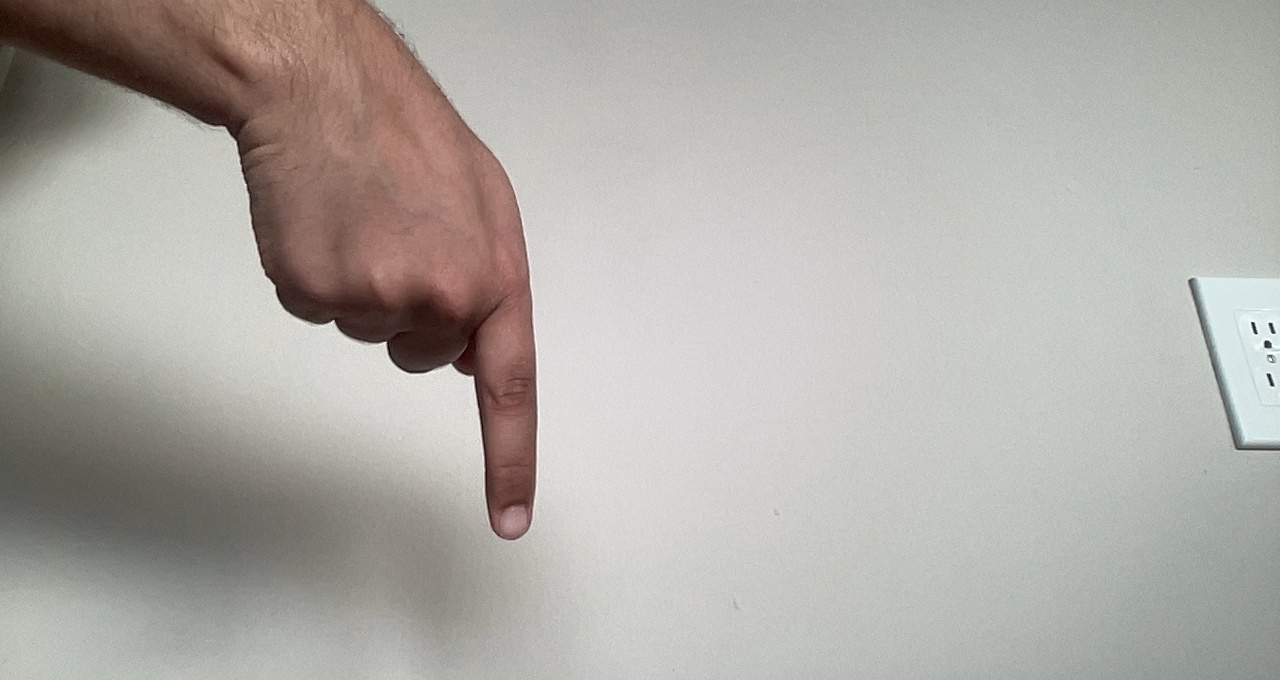fingerdown: (215, 87, 541, 543)
